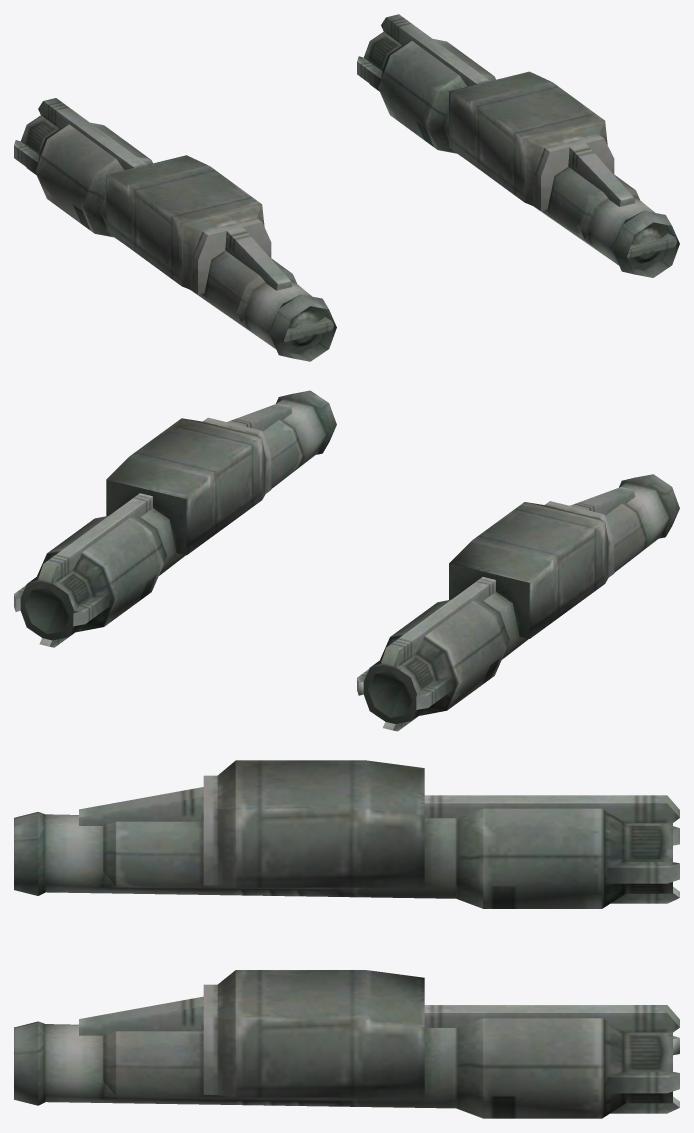
Rendered from black_sun_fighter_light_engine_s02_l1.fbx.
3 views of the same model, one above another, from view 1: azimuth 30°, elevation 25°; view 2: azimuth 150°, elevation 25°; view 3: azimuth 270°, elevation 25° (orthographic). The views are drawn at different scales.
Parts seen in each view (by area): view 1: mesh_node; view 2: mesh_node; view 3: mesh_node.
Part boxes in pixels (bbox=[...]): mesh_node: bbox=[14, 14, 679, 361]; mesh_node: bbox=[14, 390, 679, 731]; mesh_node: bbox=[14, 760, 679, 1118].
Size of the model in its own units: 9.93 by 2.18 by 10.79.
1 material, 1 textured.
